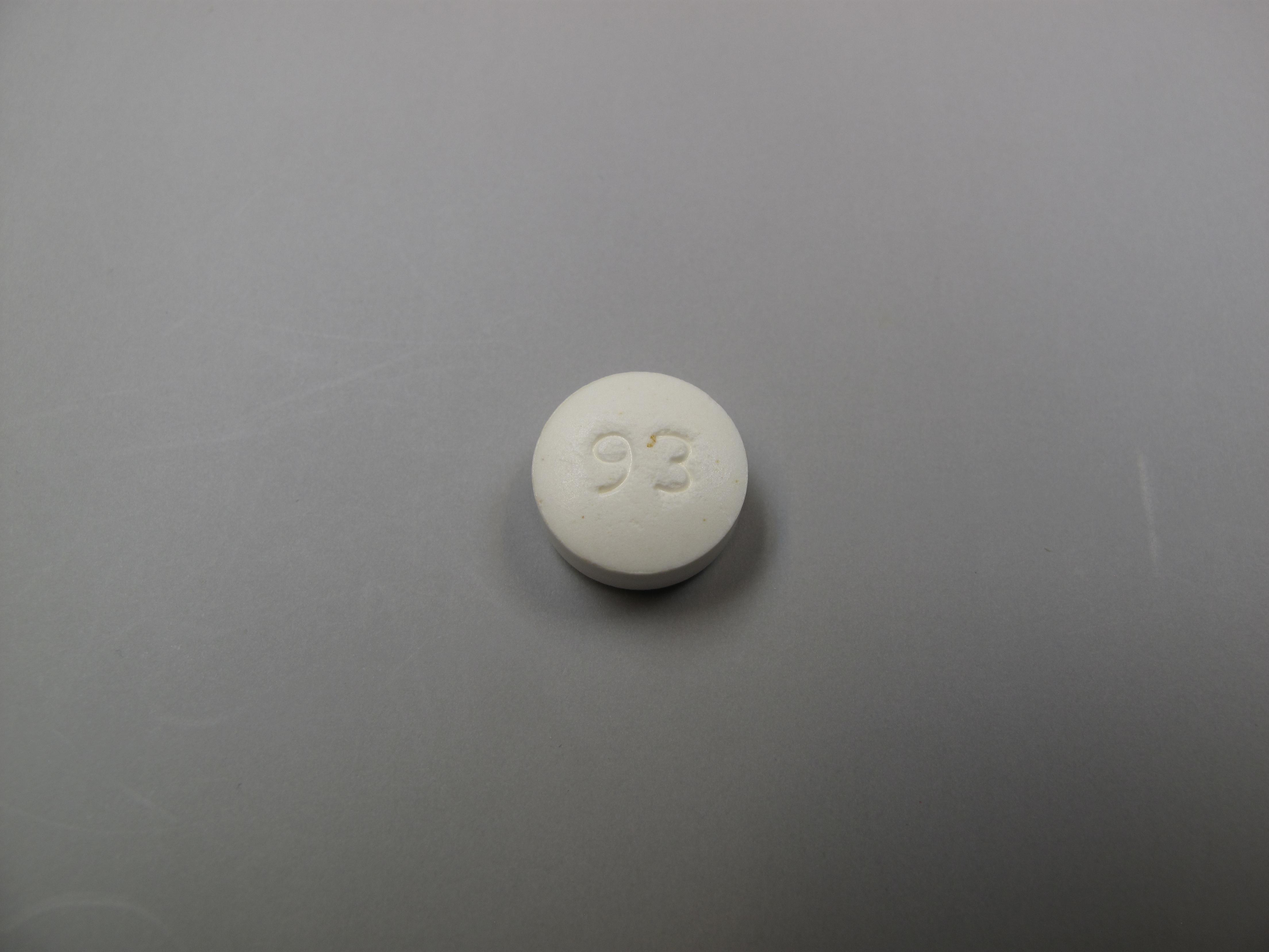Pill: (524, 365, 756, 598)
